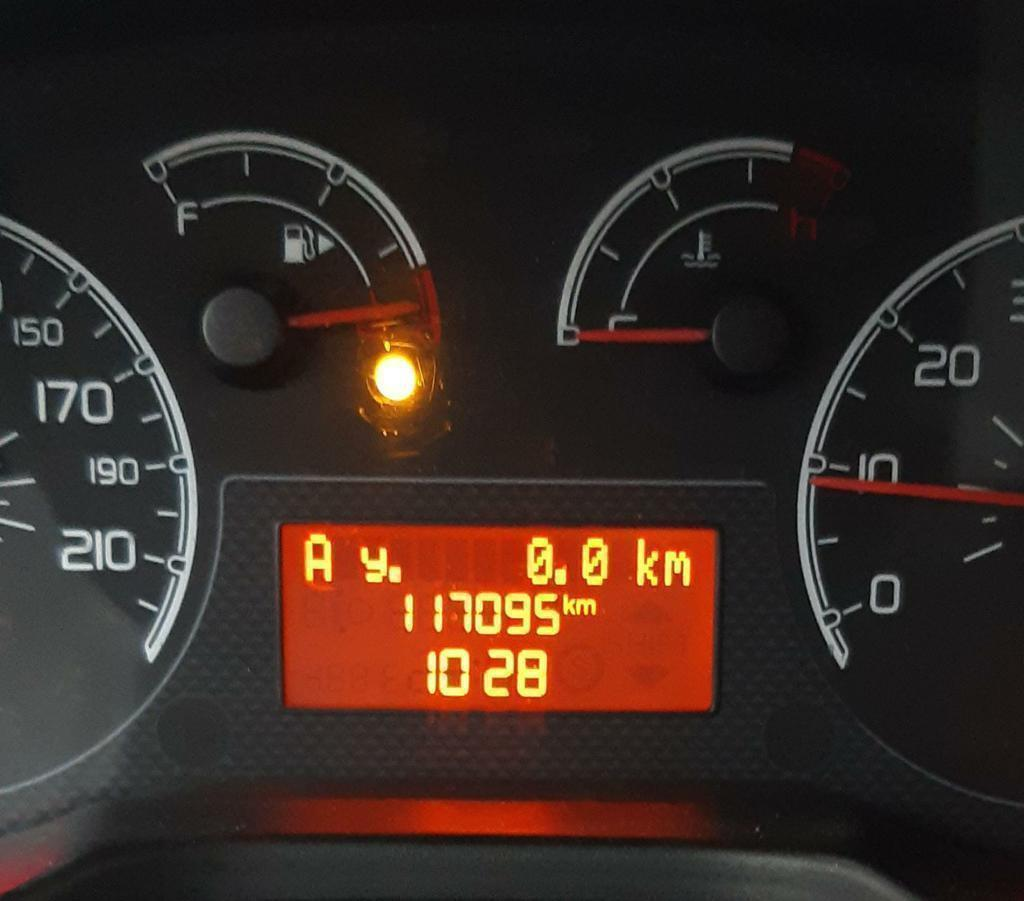,: (387, 564, 404, 585), (554, 565, 569, 587)
0: (438, 646, 470, 698), (581, 535, 609, 587), (526, 534, 553, 586), (473, 591, 501, 635)
1: (424, 646, 437, 701), (400, 591, 415, 636), (432, 591, 444, 636)
2: (481, 645, 514, 698)
5: (533, 591, 561, 636)
7: (448, 589, 473, 633)
8: (517, 648, 547, 698)
9: (503, 592, 531, 635)
X: (302, 532, 333, 585), (634, 535, 662, 589), (662, 547, 692, 588), (360, 543, 387, 585), (575, 596, 597, 617), (561, 591, 575, 617)
odometer: (271, 512, 727, 718)
